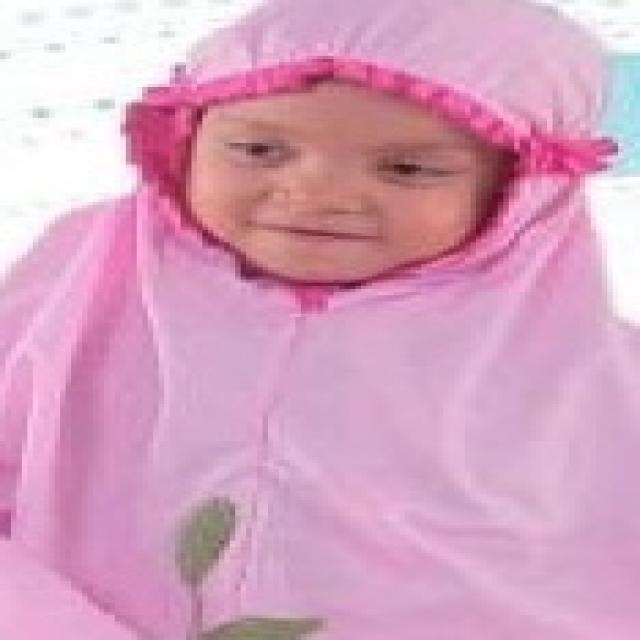head: (121, 7, 556, 290)
